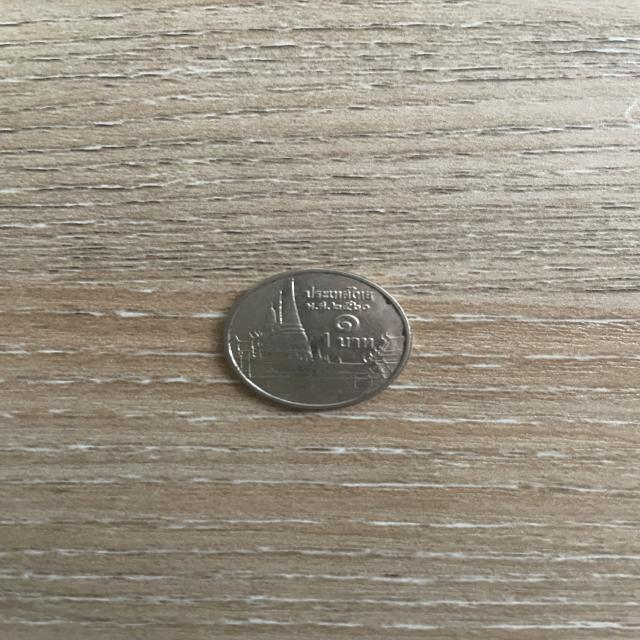1 Bath: (213, 260, 427, 422)
